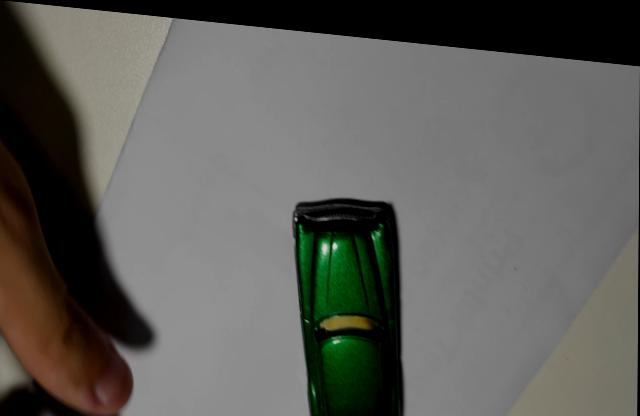06_MASERATI: (292, 189, 405, 416)
